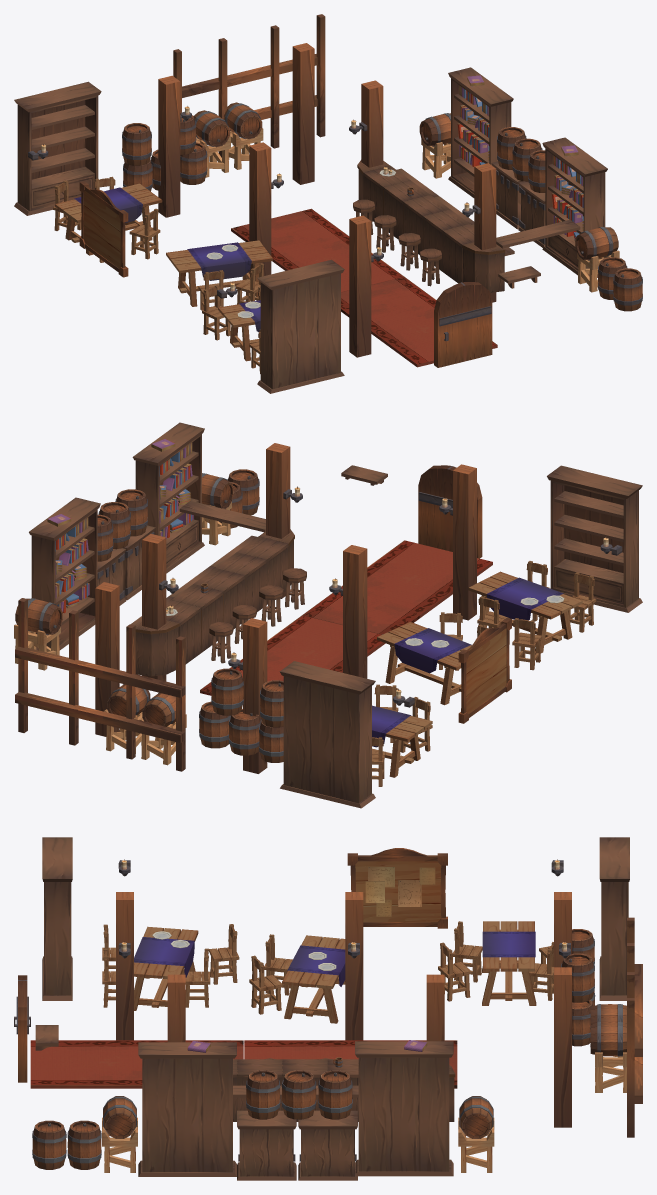
Rendered from Tavern_1ST_Floor.fbx.
3 views of the same model, one above another, from view 1: azimuth 30°, elevation 25°; view 2: azimuth 150°, elevation 25°; view 3: azimuth 270°, elevation 25° (orthographic). The views are drawn at different scales.
Visible parts, largest first — view 1: Closet_B.001, Closet_B.003, Carpet.002, Carpet.001, Closet_B.002, Door.002, Closet_A.002, Vertical_Room_Log.001, Vertical_Room_Log.012, Table_B.002, Quest_Board.001, Vertical_Room_Log.011 (+39 smaller); view 2: Closet_B.003, Closet_B.001, Carpet.001, Closet_A.002, Closet_B.002, Carpet.002, Quest_Board.001, Table_B.002, Table_B.003, Vertical_Room_Log.001, Vertical_Room_Log.009, Door.002 (+43 smaller); view 3: Closet_A.002, Closet_B.002, Quest_Board.001, Carpet.001, Closet_B.001, Closet_B.003, Cupboard.003, Table_B.001, Cupboard.001, Table_B.002, Table_B.003, Vertical_Room_Log.012 (+32 smaller).
Part boxes in pixels (left/top/right/bottom): Closet_B.001: left=257, top=259, right=344, bottom=393; Closet_B.003: left=14, top=81, right=101, bottom=215; Carpet.002: left=231, top=208, right=404, bottom=292; Carpet.001: left=341, top=277, right=497, bottom=367; Closet_B.002: left=542, top=137, right=607, bottom=277; Door.002: left=434, top=282, right=492, bottom=367; Closet_A.002: left=448, top=67, right=513, bottom=197; Vertical_Room_Log.001: left=349, top=215, right=371, bottom=357; Vertical_Room_Log.012: left=292, top=43, right=314, bottom=184; Table_B.002: left=166, top=240, right=272, bottom=306; Quest_Board.001: left=79, top=181, right=128, bottom=277; Vertical_Room_Log.011: left=158, top=75, right=180, bottom=217; Closet_B.003: left=279, top=661, right=375, bottom=808; Closet_B.001: left=547, top=465, right=642, bottom=612; Carpet.001: left=302, top=540, right=492, bottom=634; Closet_A.002: left=29, top=497, right=100, bottom=650; Closet_B.002: left=132, top=422, right=204, bottom=573; Carpet.002: left=200, top=615, right=385, bottom=695; Quest_Board.001: left=458, top=618, right=511, bottom=723; Table_B.002: left=377, top=622, right=471, bottom=705; Table_B.003: left=468, top=571, right=582, bottom=653; Vertical_Room_Log.001: left=453, top=464, right=476, bottom=620; Vertical_Room_Log.009: left=343, top=545, right=367, bottom=678; Door.002: left=418, top=465, right=482, bottom=558; Closet_A.002: left=355, top=1041, right=453, bottom=1176; Closet_B.002: left=138, top=1042, right=236, bottom=1176; Quest_Board.001: left=347, top=848, right=447, bottom=928; Carpet.001: left=30, top=1040, right=243, bottom=1088; Closet_B.001: left=42, top=837, right=72, bottom=1000; Closet_B.003: left=599, top=837, right=629, bottom=1000; Cupboard.003: left=237, top=1110, right=296, bottom=1180; Table_B.001: left=482, top=921, right=536, bottom=1005; Cupboard.001: left=298, top=1110, right=357, bottom=1180; Table_B.002: left=282, top=935, right=345, bottom=1023; Table_B.003: left=134, top=926, right=198, bottom=1010; Vertical_Room_Log.012: left=554, top=967, right=571, bottom=1127.
Bounding box in the file's own units: 1170 × 371 × 1386.
3 materials, 3 textured.
